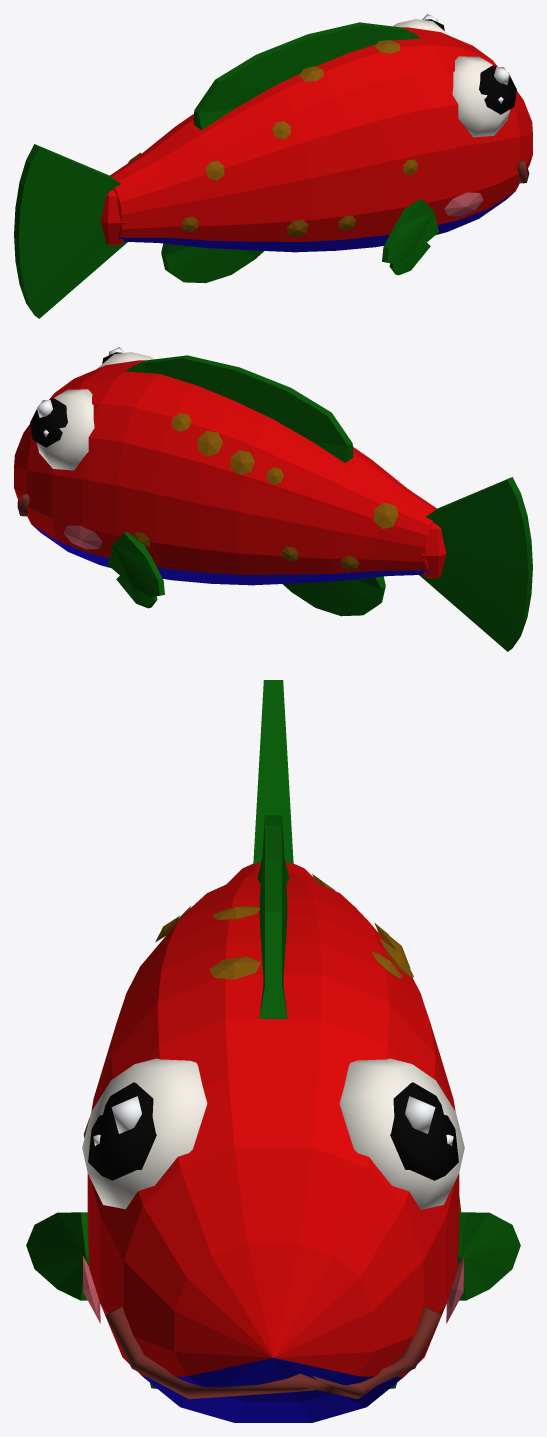
Rendered from fish-chunky.glb.
3 renders of one model, top to bottom at view 1: azimuth 30°, elevation 25°; view 2: azimuth 150°, elevation 25°; view 3: azimuth 270°, elevation 25°, orthographic. The views are drawn at different scales.
Visible parts, largest first — view 1: body, tail; view 2: body, tail; view 3: body, tail.
Part boxes in pixels (box(x1,y1,x2,y2)): body: box(110, 14, 532, 283); tail: box(14, 144, 127, 318); body: box(14, 347, 436, 616); tail: box(419, 477, 532, 651); body: box(26, 815, 520, 1422); tail: box(253, 680, 293, 864).
Bounding box in the file's own units: 0.944 × 0.4051 × 0.3921.
